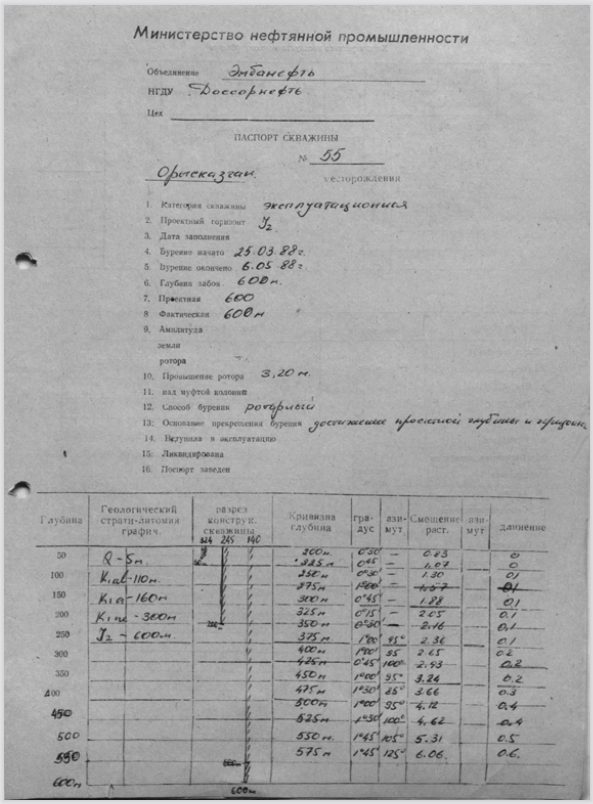Bordered: (37, 492, 570, 789)
